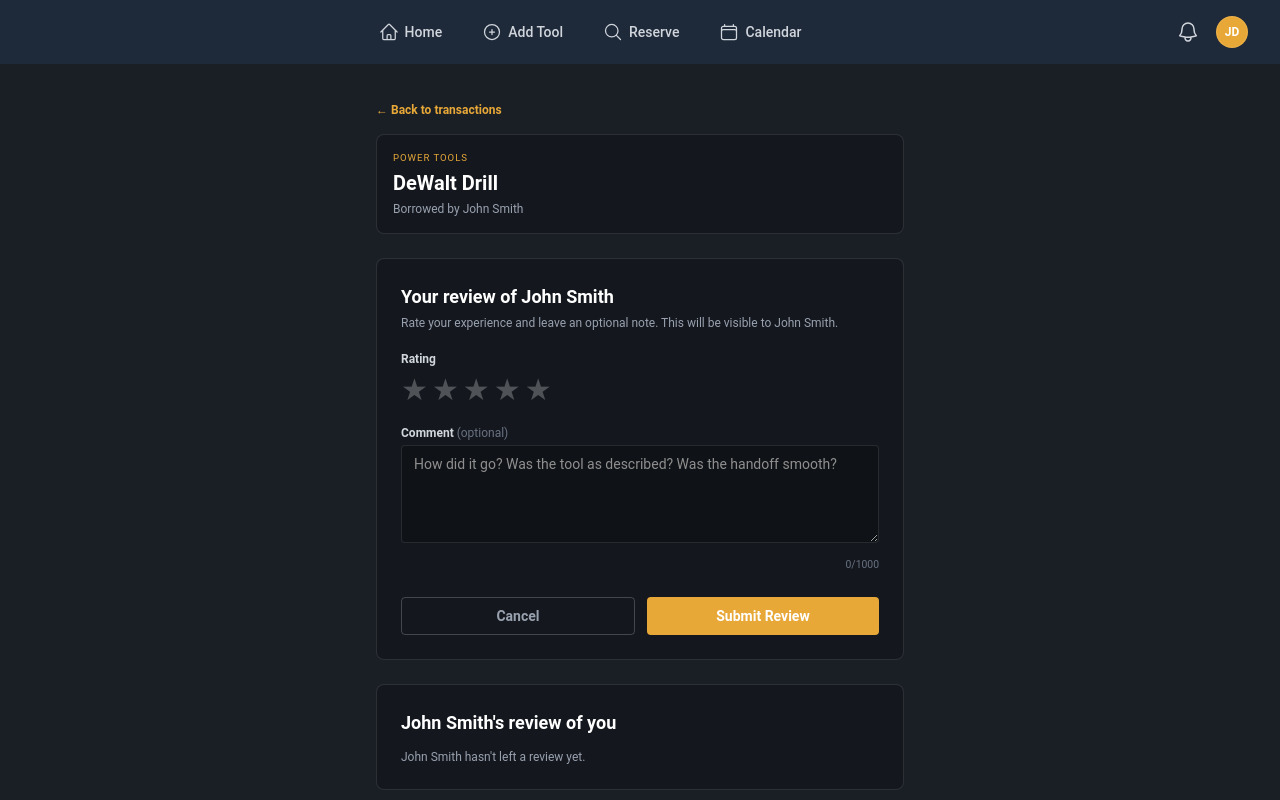
it: MakeReview › shows an error when submitting the review fails
Click the radio button named "3 stars" at (476, 390), box [463, 375, 490, 405]
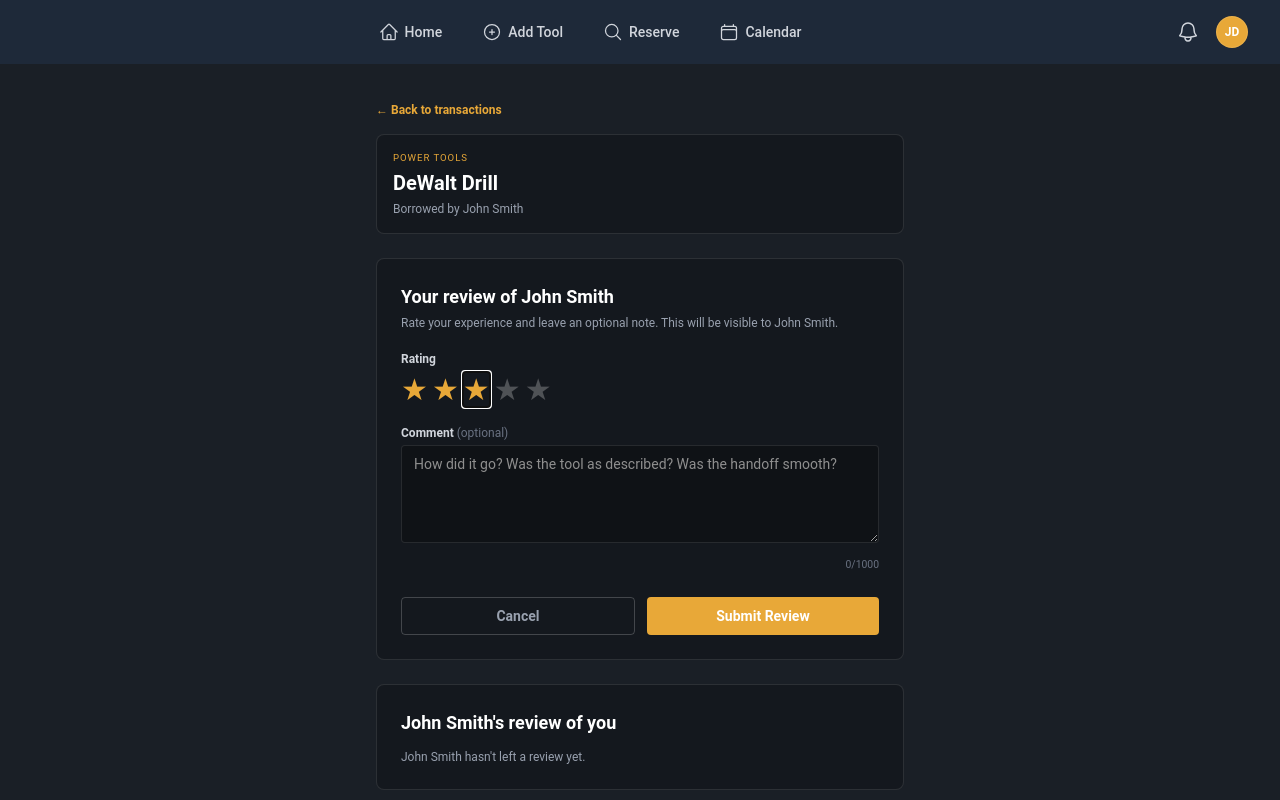
Click the button "Submit Review" at (763, 616), box [647, 597, 879, 635]
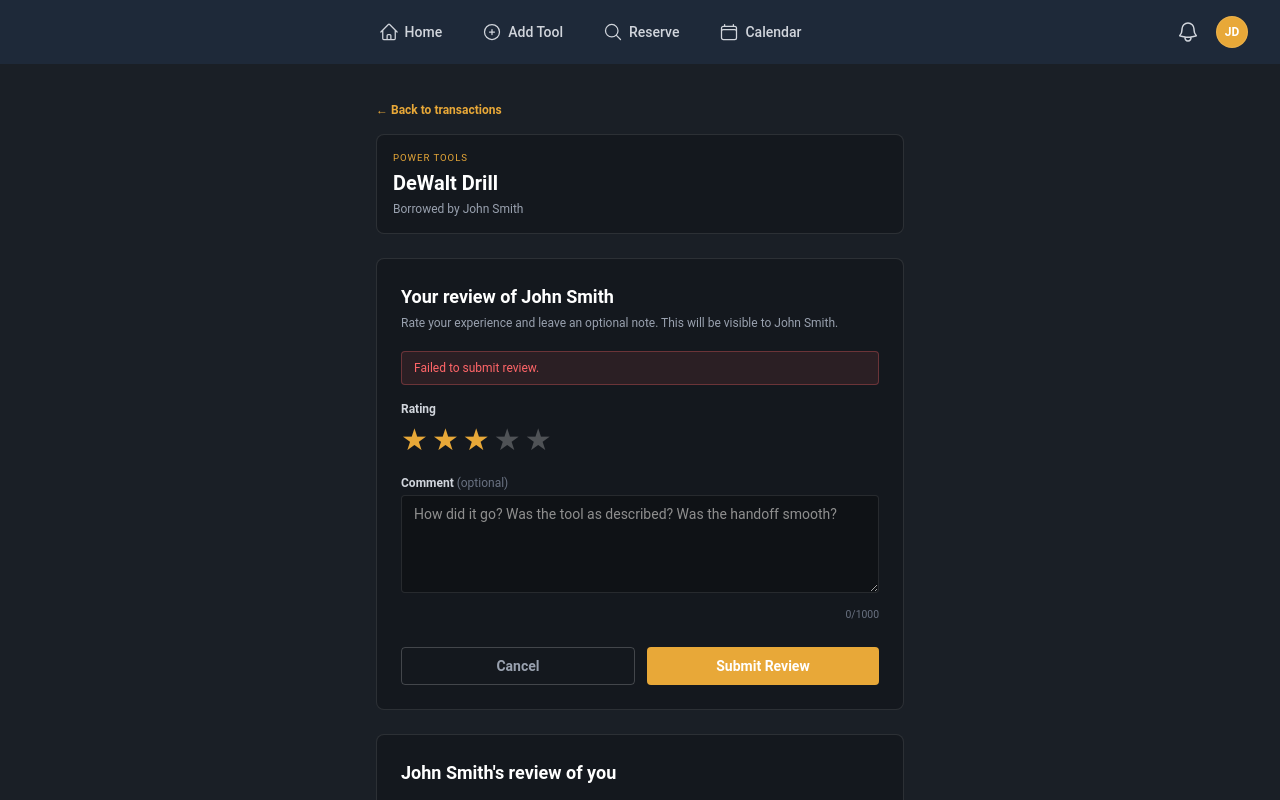
Expected: the button "Submit Review" is shown, [647, 647, 879, 685]
Expected: the text "Failed to submit review." is shown, [401, 351, 879, 385]
